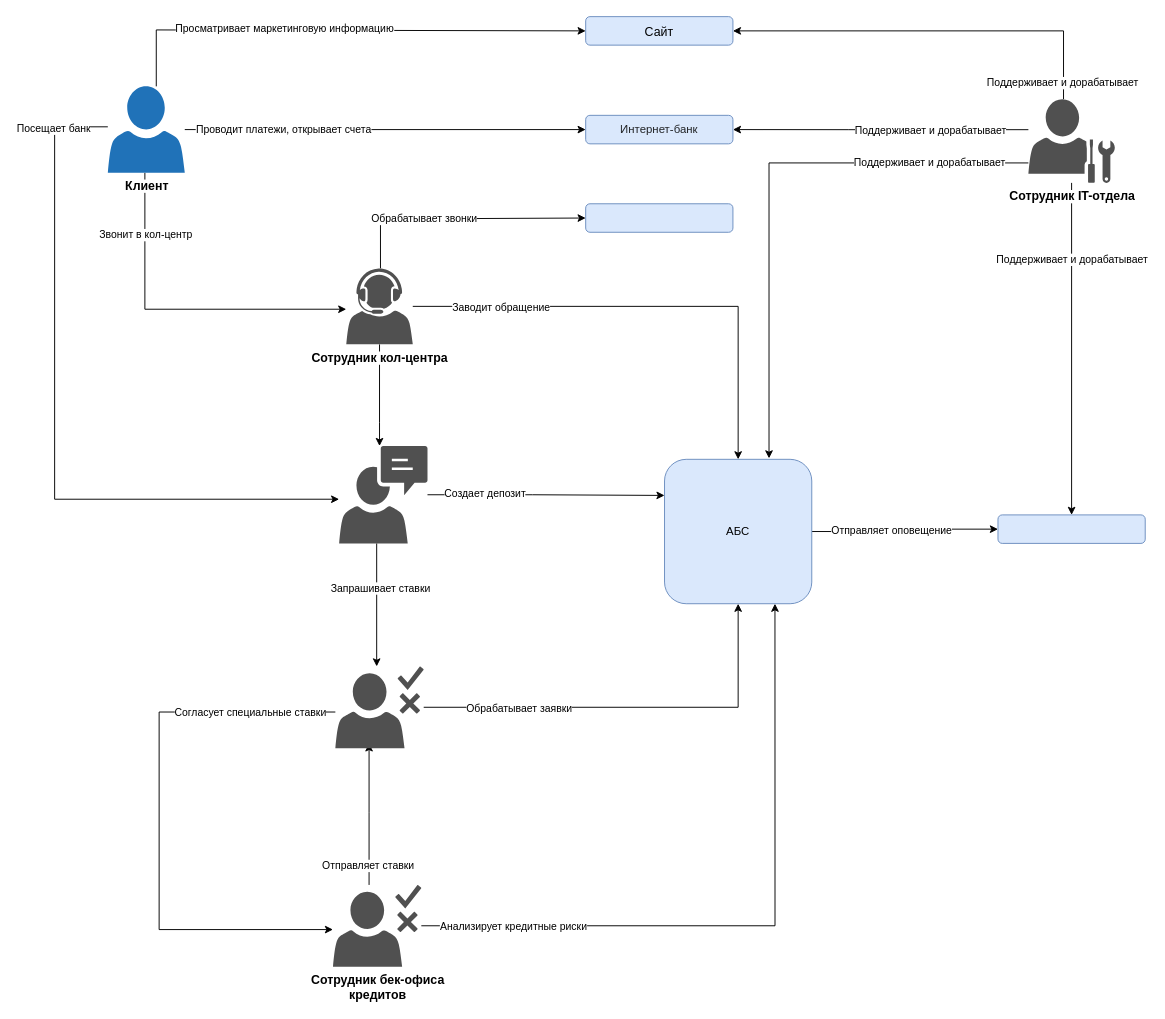
This 1165x1019 diagram has some shape labels left out. Here are the shapes that lost their labels. From the top down, the centre of each, then its label:
(x=659, y=217): Система кол-центра
(x=383, y=494): Сотрудник фронт-офиса
(x=1071, y=528): СМС-шлюз
(x=379, y=707): Сотрудник бек-офиса депозитов
